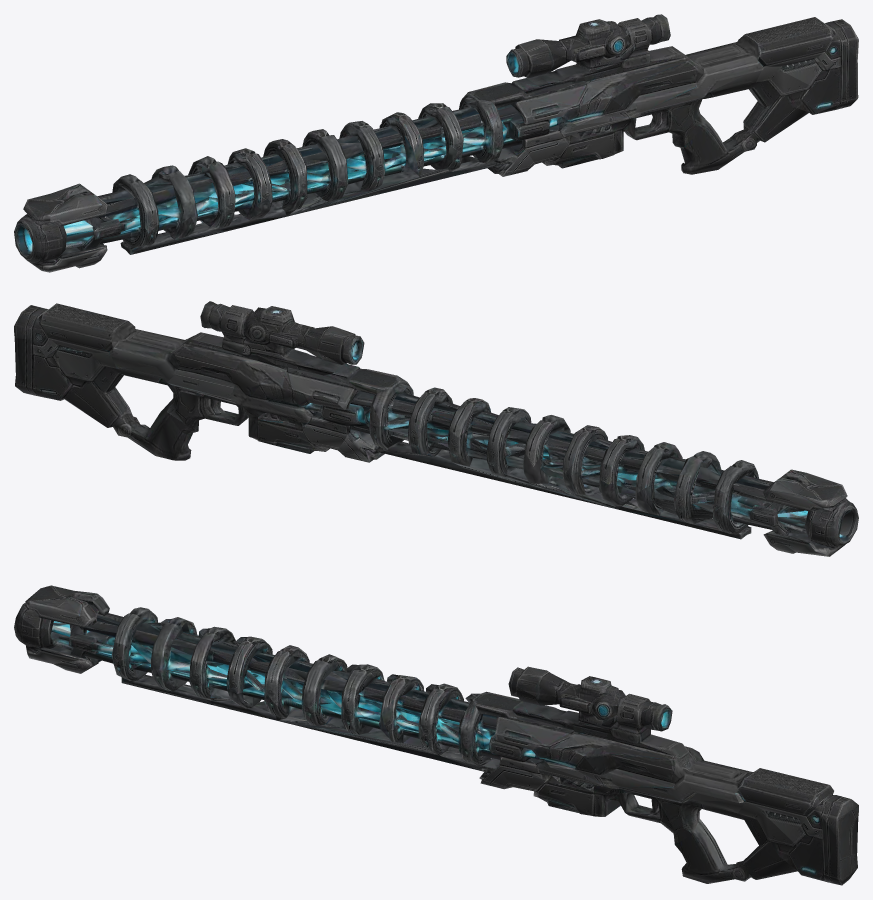
File: gun_rail_opt.glb
3 renders of one model, top to bottom at view 1: azimuth 30°, elevation 25°; view 2: azimuth 150°, elevation 25°; view 3: azimuth 330°, elevation 25°, orthographic.
Parts seen in each view (by area): view 1: mesh_node; view 2: mesh_node; view 3: mesh_node.
Part boxes in pixels (x1=…): mesh_node: x1=14, y1=14, x2=858, y2=272; mesh_node: x1=14, y1=301, x2=858, y2=556; mesh_node: x1=14, y1=585, x2=858, y2=885.
Bounding box in the file's own units: 1.9 × 0.3746 × 0.1504.
1 material, 1 textured.
